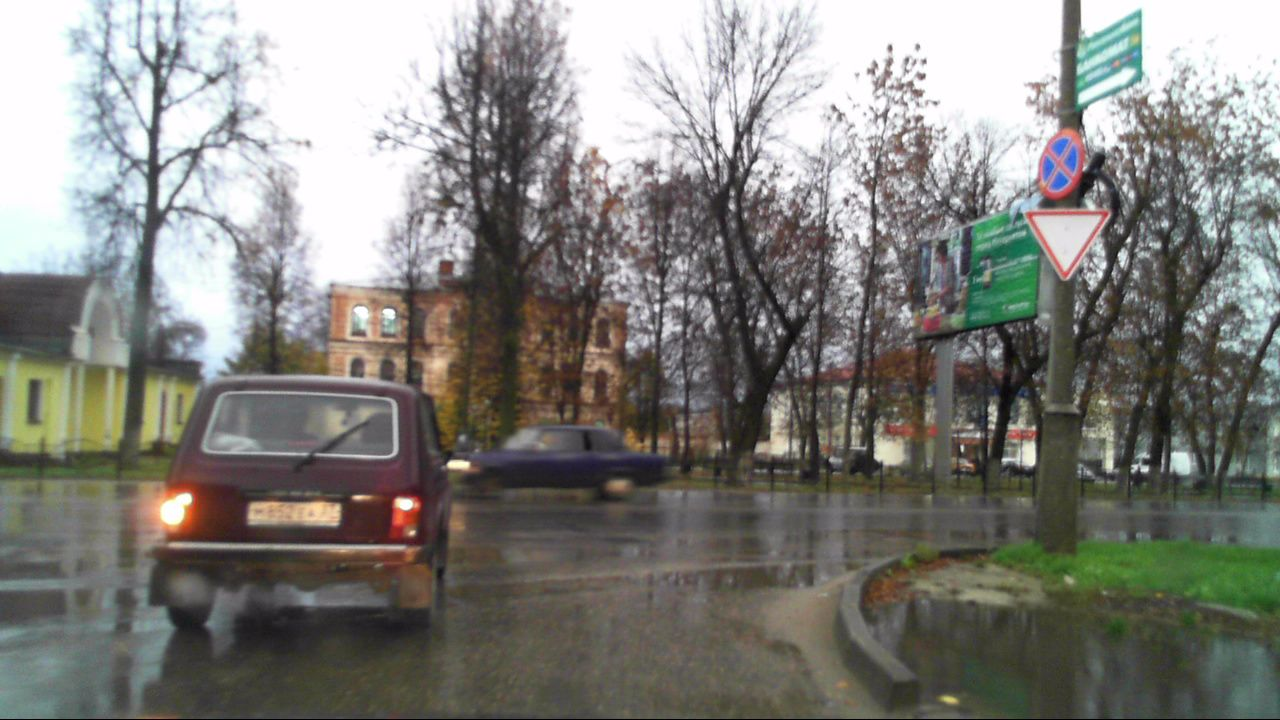No Parking: (1037, 127, 1084, 201)
